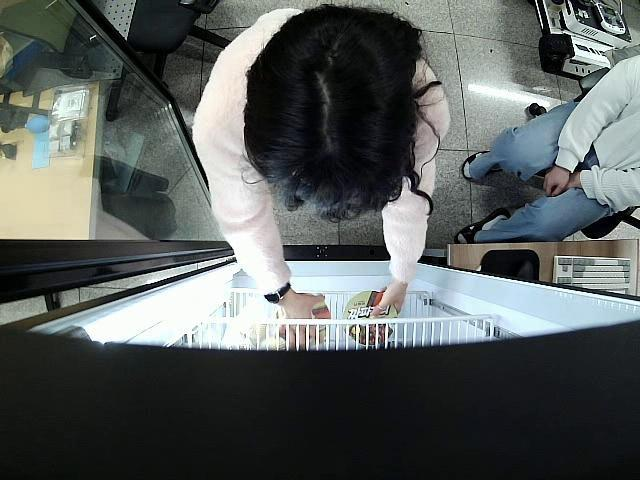03_chapagetti_L: (343, 294, 396, 346), (278, 302, 330, 342)
